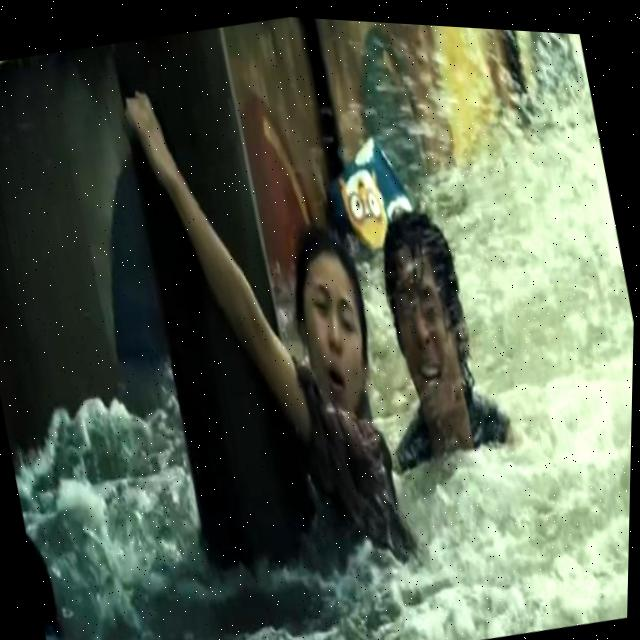civilian: (93, 40, 448, 640), (331, 149, 555, 508)
